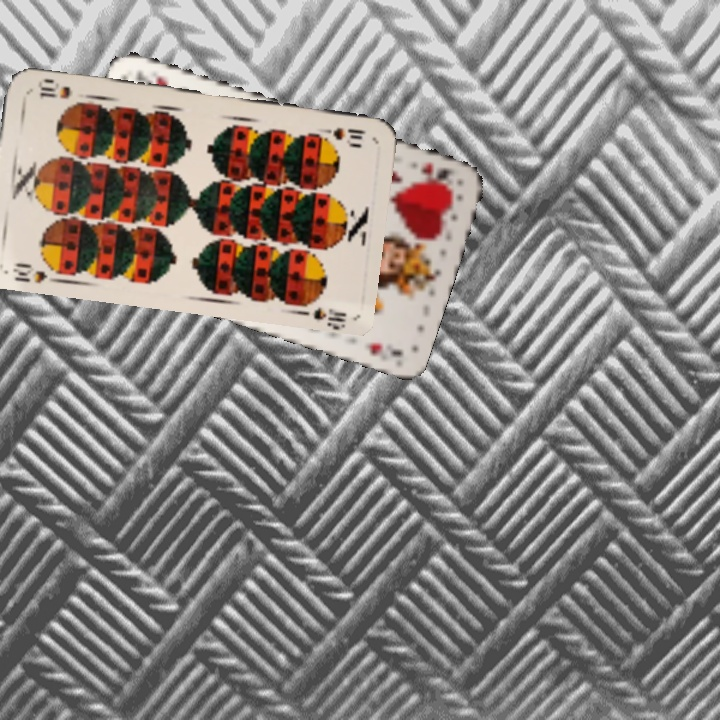HK: (416, 158, 456, 189)
S10: (8, 258, 62, 286), (314, 123, 369, 142)
